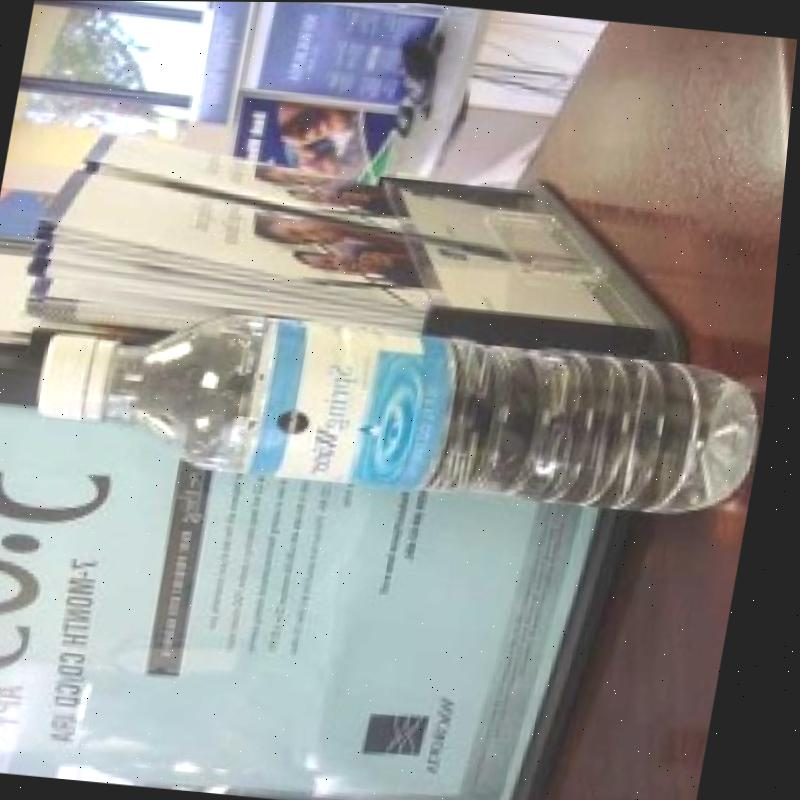botella: (28, 291, 776, 529)
